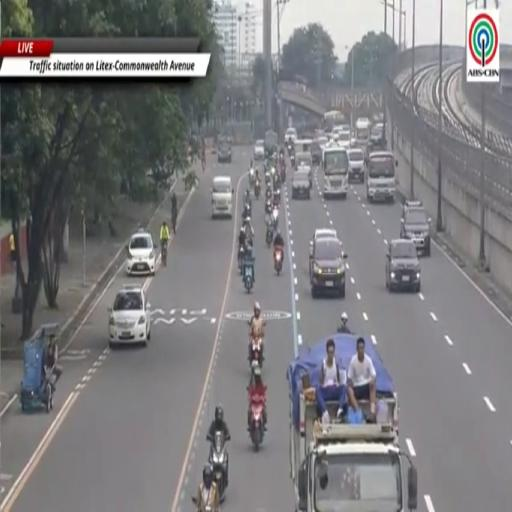car: (109, 285, 151, 346), (310, 237, 347, 298), (386, 238, 420, 293), (400, 201, 431, 257), (126, 229, 156, 275), (309, 228, 337, 270), (347, 149, 365, 183), (292, 168, 311, 199), (310, 136, 328, 165), (294, 165, 312, 188), (218, 138, 232, 163), (370, 123, 385, 146), (310, 140, 322, 165), (295, 152, 312, 168), (337, 131, 351, 148), (254, 140, 264, 161), (285, 127, 297, 142)
motorcycle: (209, 431, 227, 502), (249, 397, 264, 451), (249, 336, 264, 367), (242, 258, 254, 293), (192, 496, 219, 511), (274, 247, 283, 275), (266, 222, 274, 247), (238, 246, 244, 274), (271, 207, 278, 231), (243, 200, 251, 217), (274, 185, 281, 204), (254, 180, 260, 200), (265, 199, 272, 214), (273, 194, 279, 209), (265, 187, 272, 199), (265, 174, 271, 187), (281, 165, 285, 183), (249, 172, 254, 186), (291, 155, 295, 168)
tricycle: (20, 324, 58, 412)
truck: (288, 340, 417, 511), (366, 151, 397, 202), (322, 142, 349, 199), (355, 118, 371, 150), (264, 130, 278, 157)
